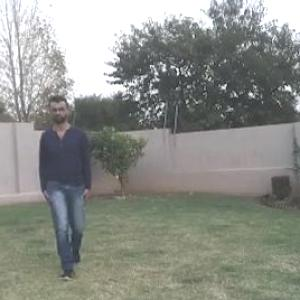follow: (41, 106, 93, 269)
